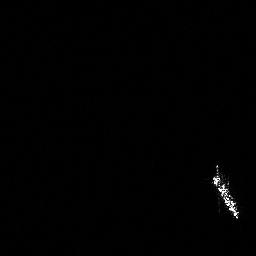ship: (207, 164, 242, 221)
